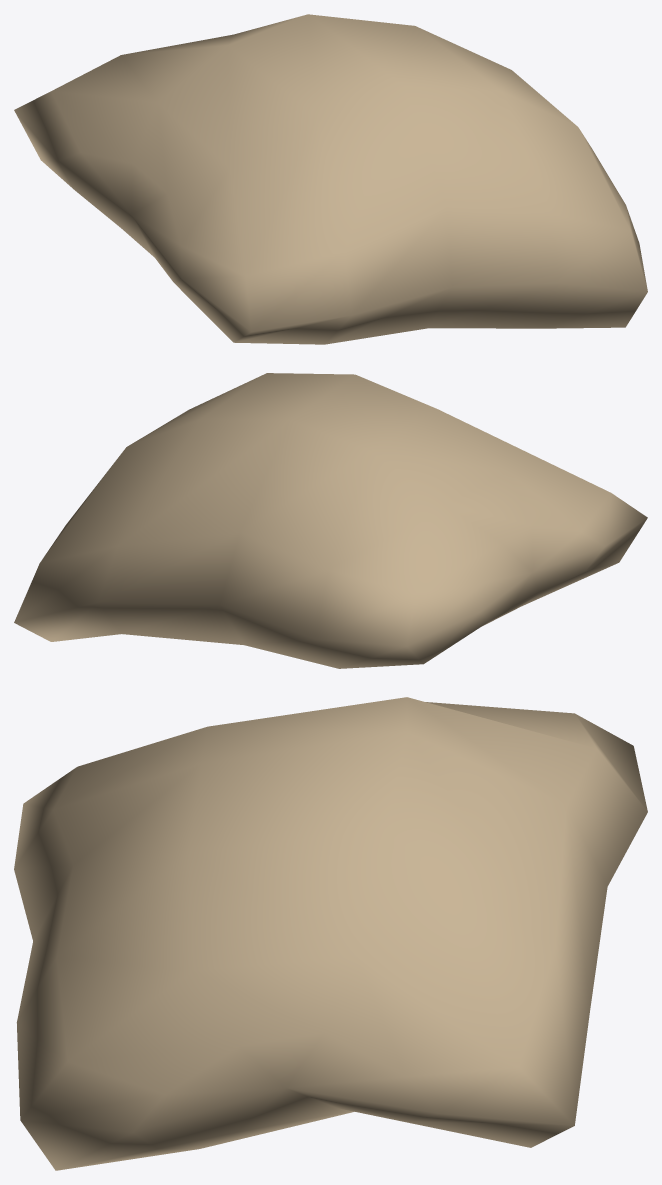
The model's file is Flour.fbx.
3 views of the same model, one above another, from view 1: azimuth 30°, elevation 25°; view 2: azimuth 150°, elevation 25°; view 3: azimuth 270°, elevation 25° (orthographic). The views are drawn at different scales.
Visible parts, largest first — view 1: Sphere.001; view 2: Sphere.001; view 3: Sphere.001.
Part boxes in pixels (x1,y1,x2,y2): Sphere.001: (14,14,647,344); Sphere.001: (14,373,647,668); Sphere.001: (14,697,647,1170).
Size of the model in its own units: 179 by 99 by 172.
